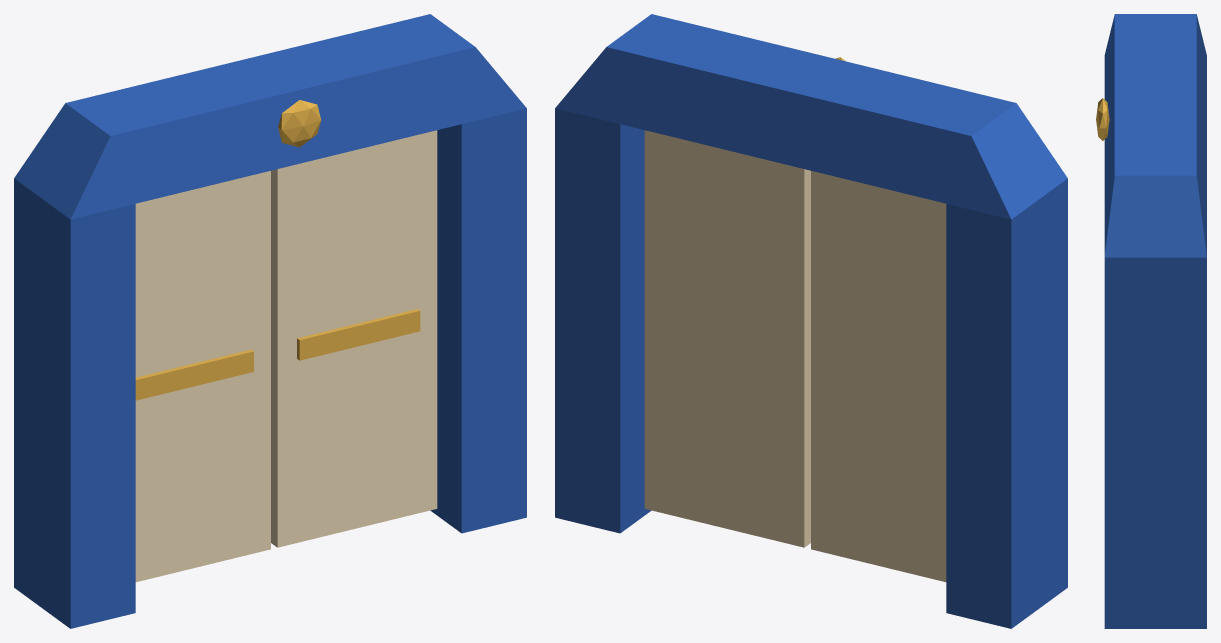
File: gate.glb
3 renders of one model, left to right at view 1: azimuth 30°, elevation 25°; view 2: azimuth 150°, elevation 25°; view 3: azimuth 270°, elevation 25°, orthographic. The views are drawn at different scales.
Visible parts, largest first — view 1: frame, door_right, door_left; view 2: frame, door_right, door_left; view 3: frame.
Part boxes in pixels (bbox=[...]): frame: bbox=[14, 14, 526, 628]; door_right: bbox=[271, 130, 437, 547]; door_left: bbox=[135, 171, 270, 582]; frame: bbox=[555, 14, 1067, 628]; door_right: bbox=[644, 130, 810, 547]; door_left: bbox=[811, 171, 946, 582]; frame: bbox=[1096, 14, 1206, 628].
Bounding box in the file's own units: 0.14 × 0.14 × 0.0325.
